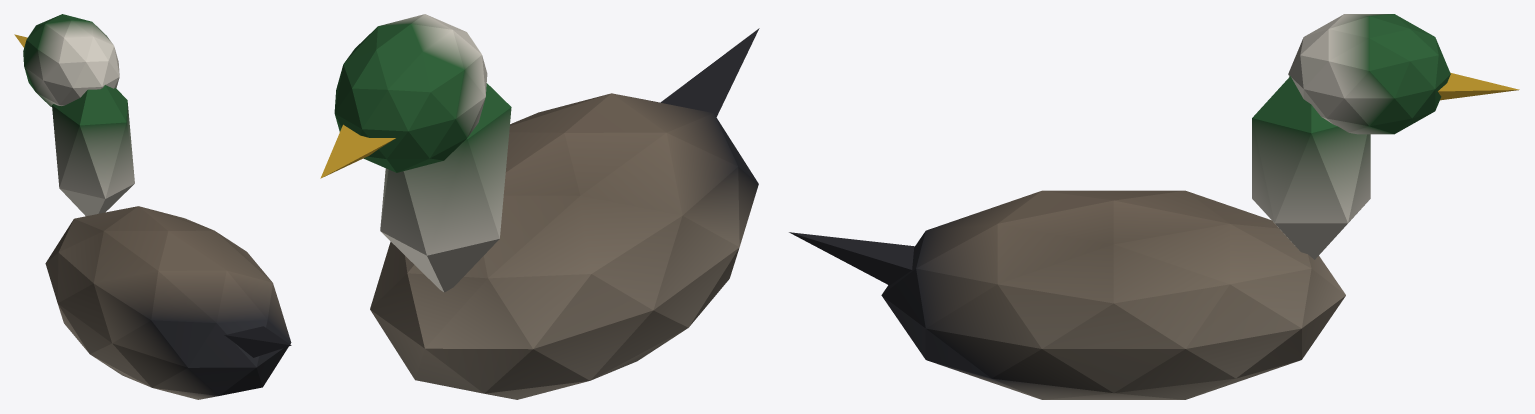
File: duck.glb
The picture shows the model from 3 angles, left to right: view 1: azimuth 30°, elevation 25°; view 2: azimuth 150°, elevation 25°; view 3: azimuth 270°, elevation 25°; orthographic projection. The views are drawn at different scales.
Parts seen in each view (by area): view 1: duck; view 2: duck; view 3: duck.
Boxes of the visible parts, box(x1,y1,x2,y2) form: duck: box(14, 14, 291, 399); duck: box(320, 14, 759, 399); duck: box(789, 14, 1519, 399).
Bounding box in the file's own units: 0.2187 × 0.355 × 0.63.
